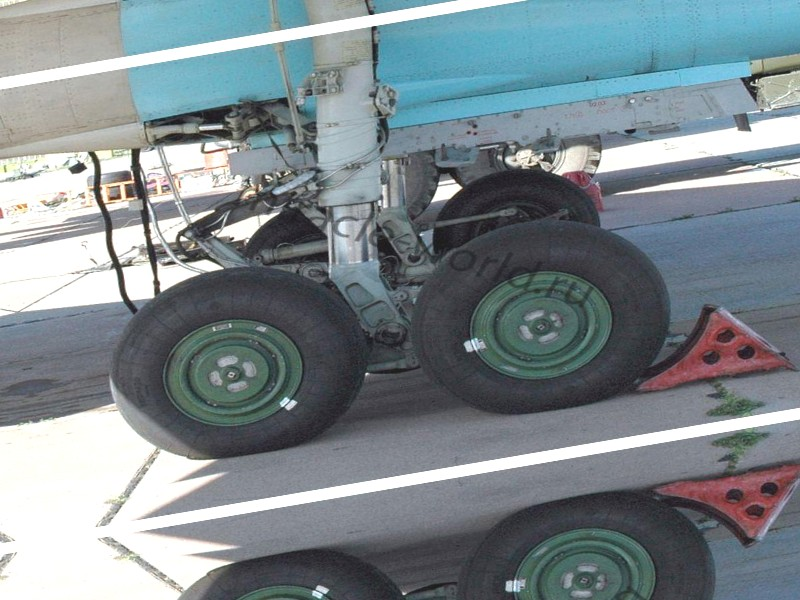chock: (622, 288, 800, 399), (650, 454, 800, 565)
wheel: (91, 245, 384, 478), (399, 198, 687, 432), (446, 475, 734, 600), (423, 156, 603, 256), (231, 202, 336, 276)
